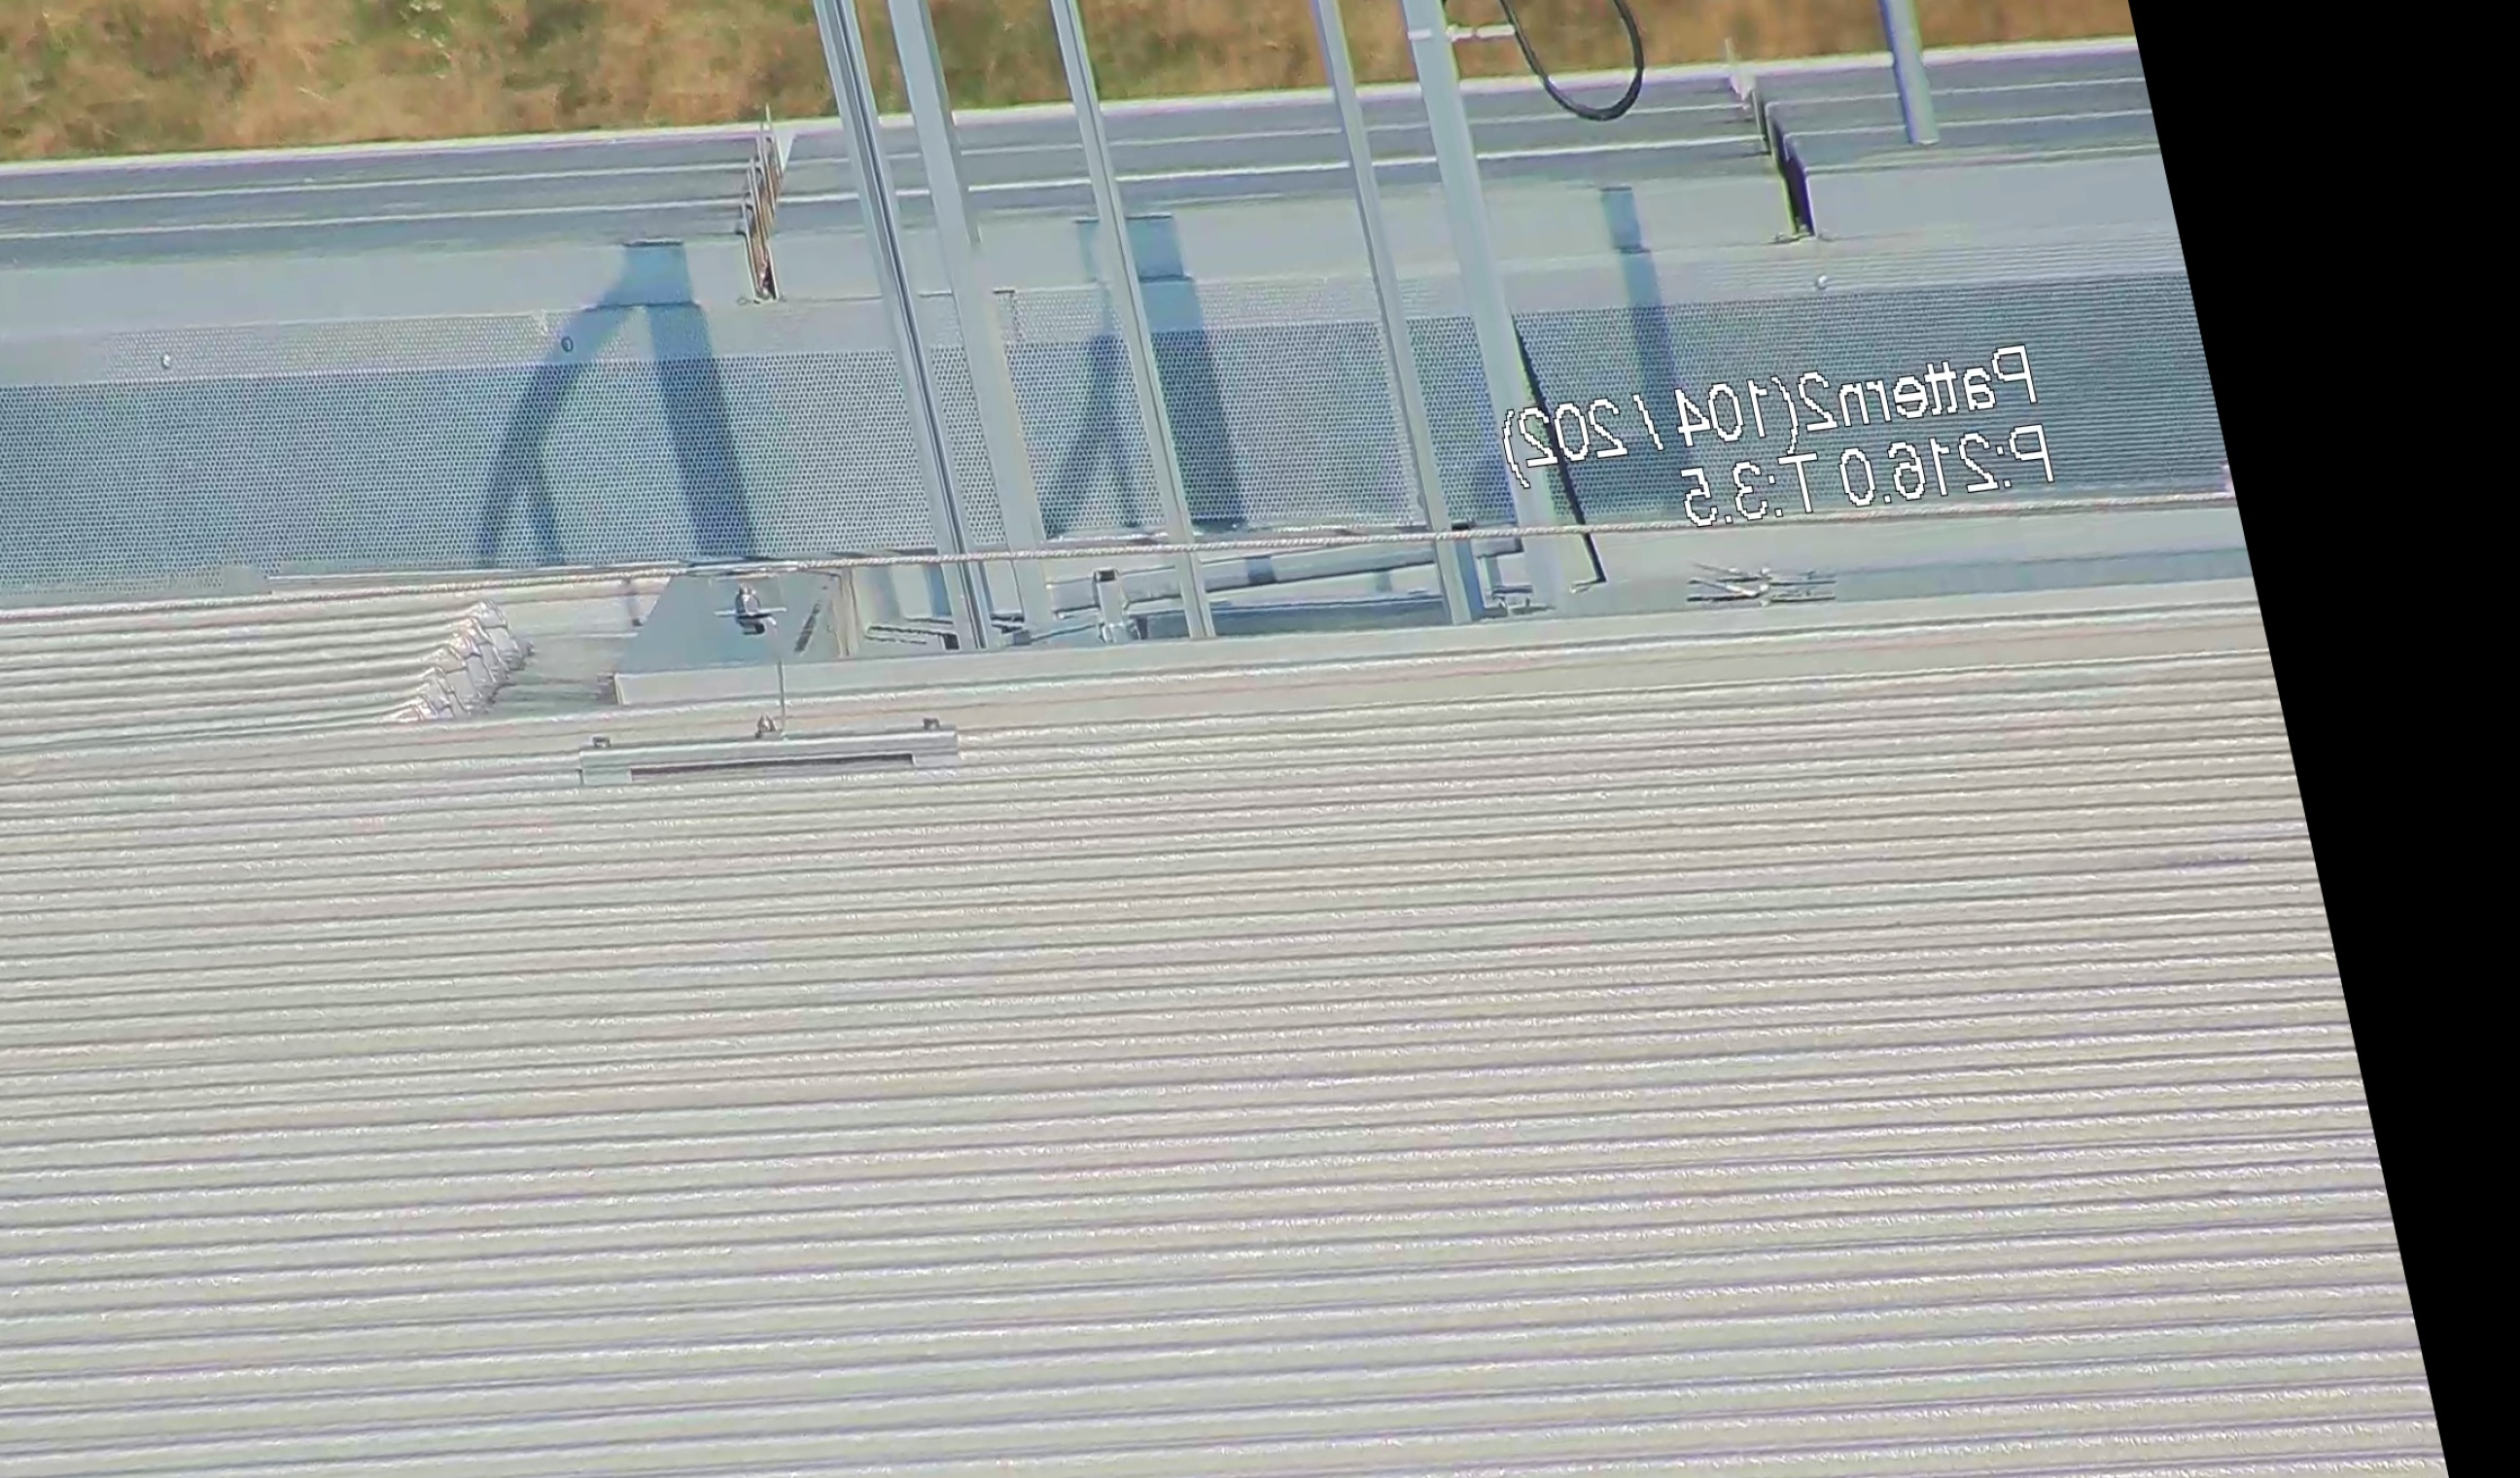Other: (352, 586, 556, 739)
